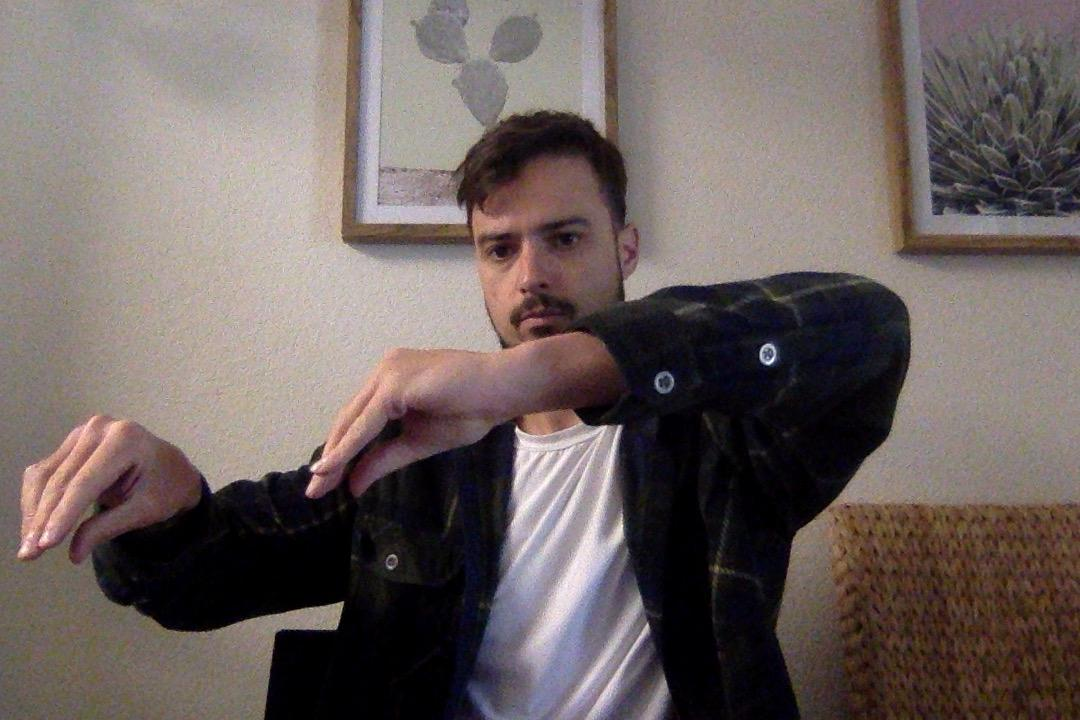Pinched-Fingers: (285, 340, 547, 503), (11, 405, 200, 578)
